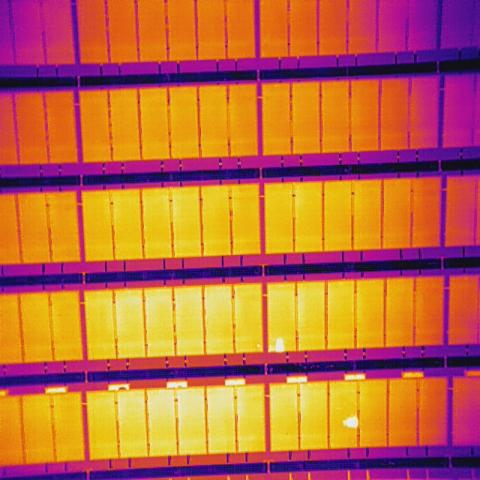fault: (341, 414, 359, 430), (274, 335, 286, 354)
